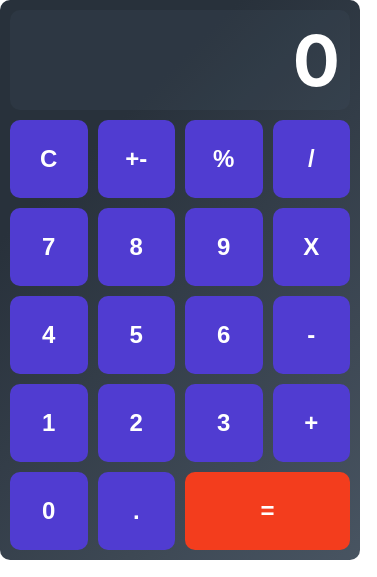
Test case: CalculatorV2 › invert toggles sign
Click the button "5" at [136, 335], box 98,296 -> 175,374
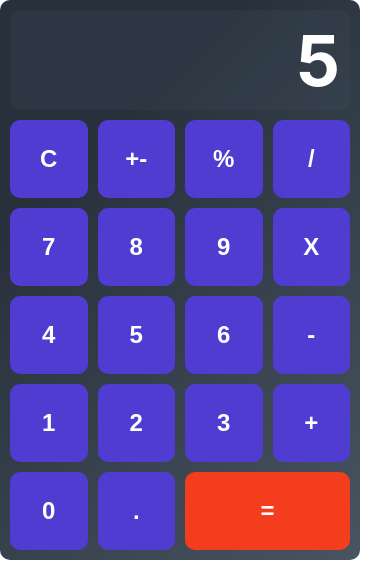
Click the button "+-" at [136, 159], box 98,120 -> 175,198
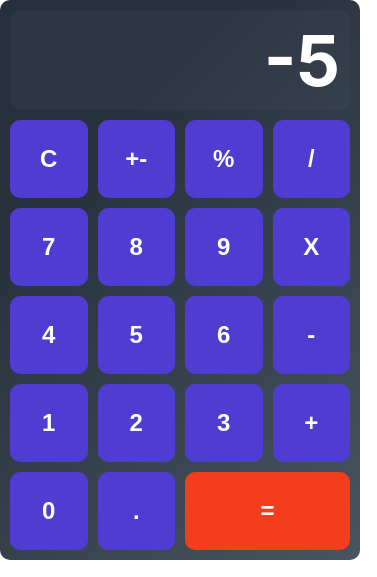
Expected: the text with class "responsive-text" reads "-5", 264,18 -> 340,102
